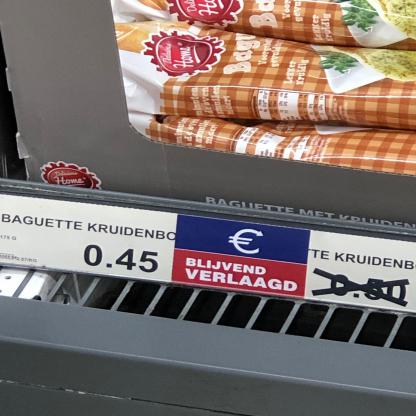prtg: (1, 195, 179, 283)
